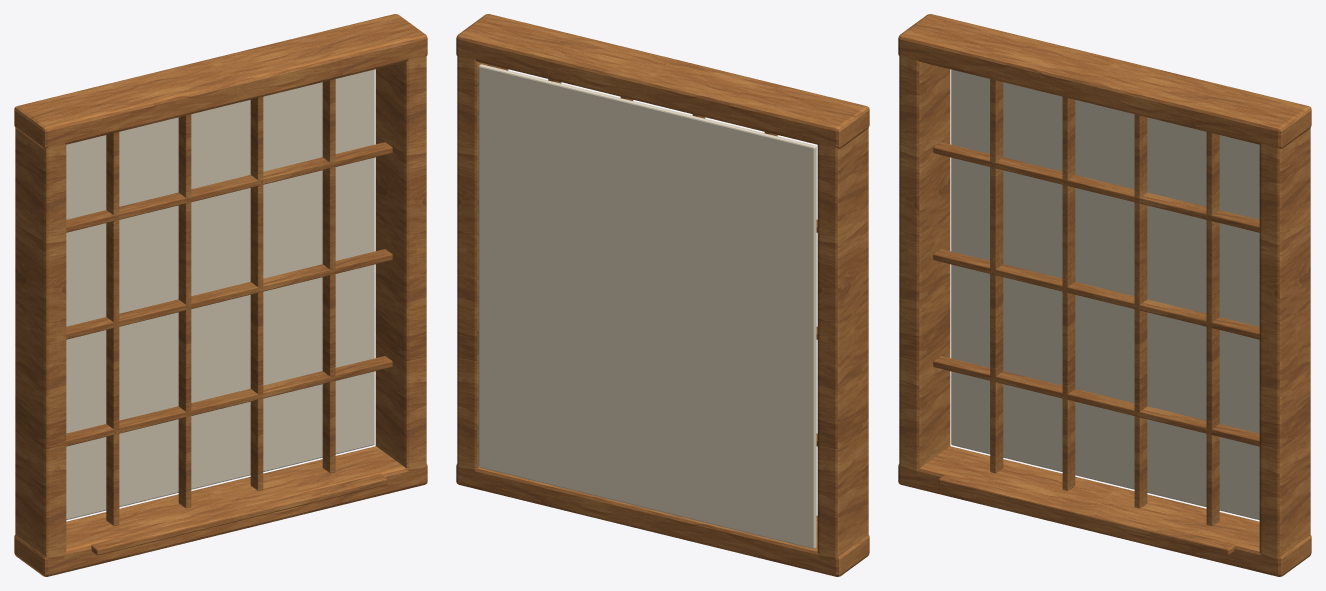
Rendered from WC_CAFE_Window_Recess_A.glb.
3 renders of one model, left to right at view 1: azimuth 30°, elevation 25°; view 2: azimuth 150°, elevation 25°; view 3: azimuth 330°, elevation 25°, orthographic.
Parts seen in each view (by area): view 1: WC_CAFE_Window_Recess_A_PolishedRenderMesh; view 2: WC_CAFE_Window_Recess_A_PolishedRenderMesh; view 3: WC_CAFE_Window_Recess_A_PolishedRenderMesh.
Boxes of the visible parts, x1,y1,x2,y2 form: WC_CAFE_Window_Recess_A_PolishedRenderMesh: [14, 14, 427, 576]; WC_CAFE_Window_Recess_A_PolishedRenderMesh: [456, 14, 869, 576]; WC_CAFE_Window_Recess_A_PolishedRenderMesh: [898, 14, 1311, 576].
Size of the model in its own units: 1.6 by 1.79 by 0.275.
3 materials, 2 textured.
